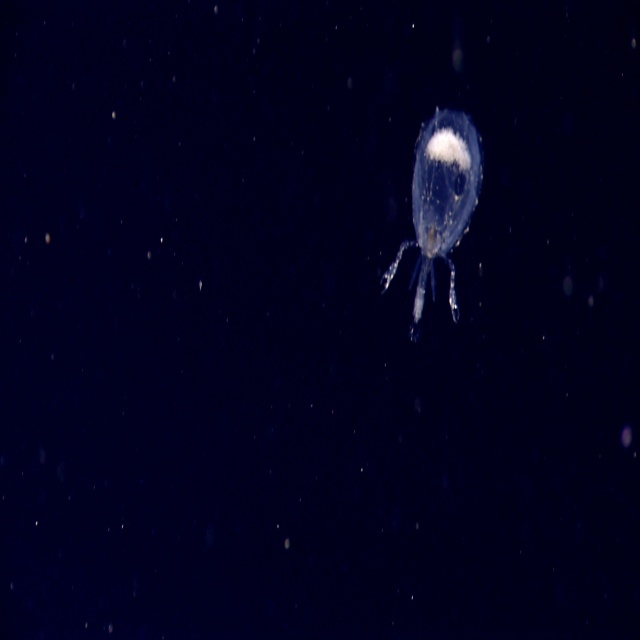Jellyfish: (385, 114, 493, 324)
